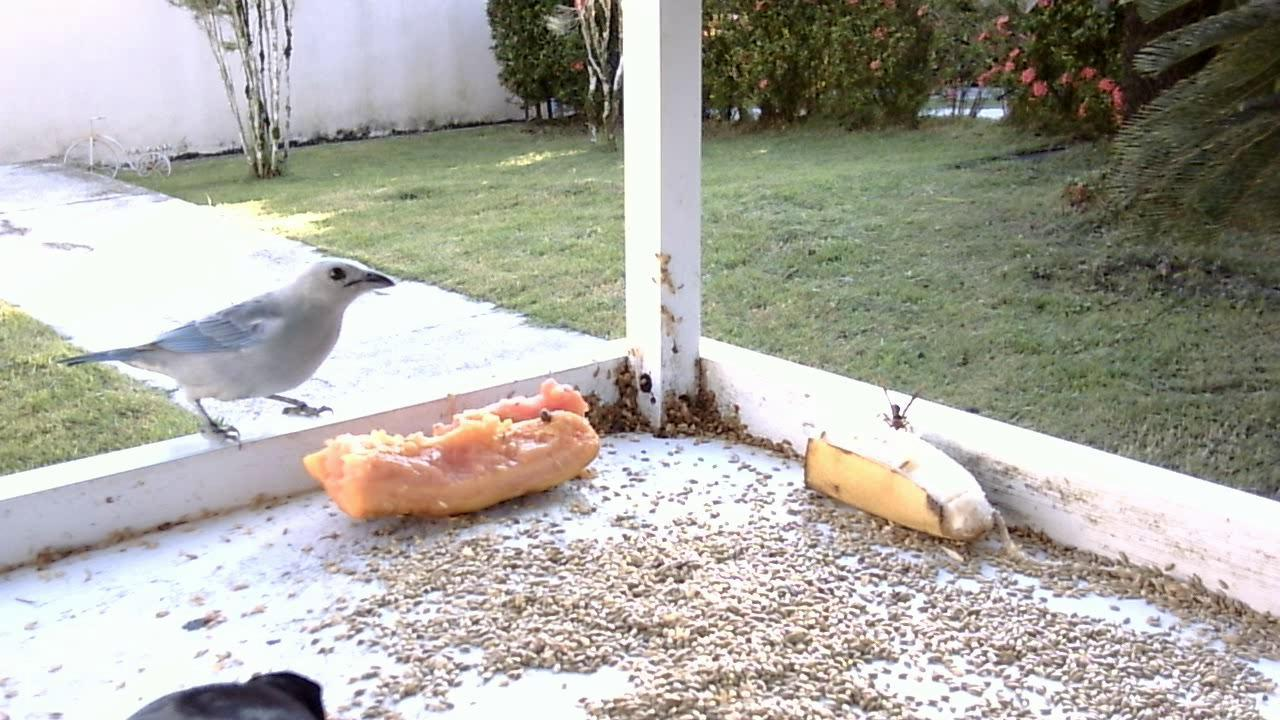sanhaco_da_amazonia: (59, 255, 397, 456)
